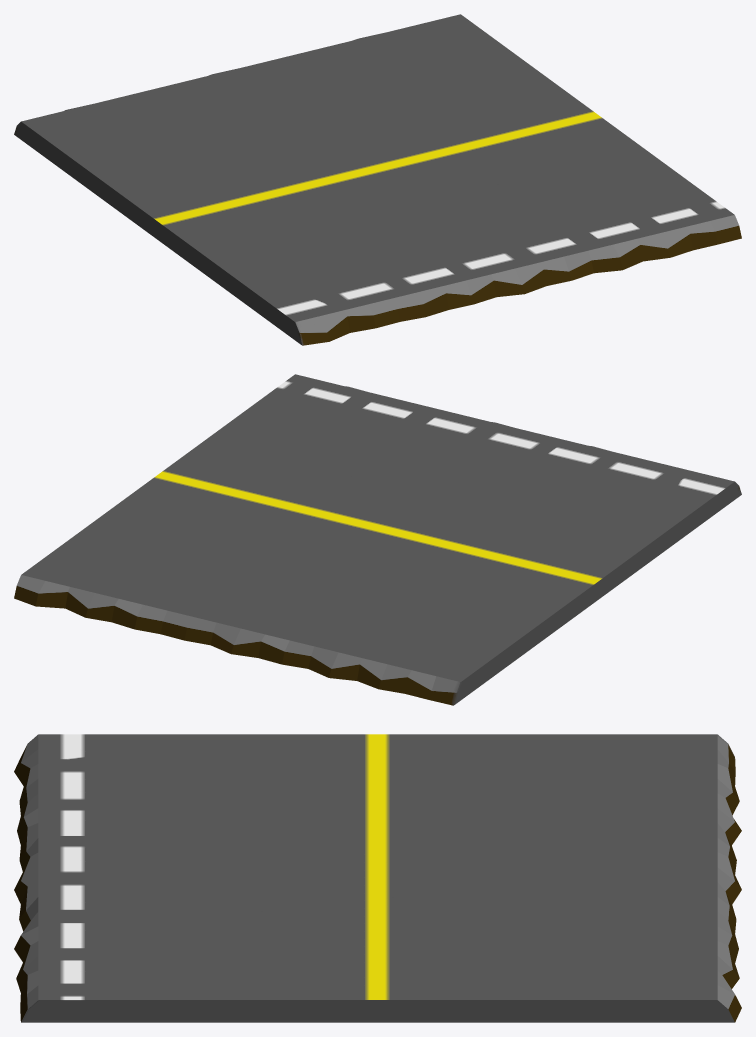
File: road_dashed.fbx
3 renders of one model, top to bottom at view 1: azimuth 30°, elevation 25°; view 2: azimuth 150°, elevation 25°; view 3: azimuth 270°, elevation 25°, orthographic. The views are drawn at different scales.
Parts seen in each view (by area): view 1: road_dashed; view 2: road_dashed; view 3: road_dashed.
Boxes of the visible parts, x1,y1,x2,y2 form: road_dashed: (14, 14, 741, 345); road_dashed: (14, 374, 741, 705); road_dashed: (14, 734, 741, 1022).
Size of the model in its own units: 579 by 500 by 20.
